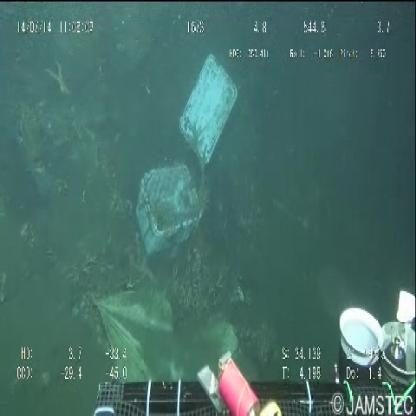Rov: (84, 274, 416, 416)
Rác: (126, 49, 242, 262)
